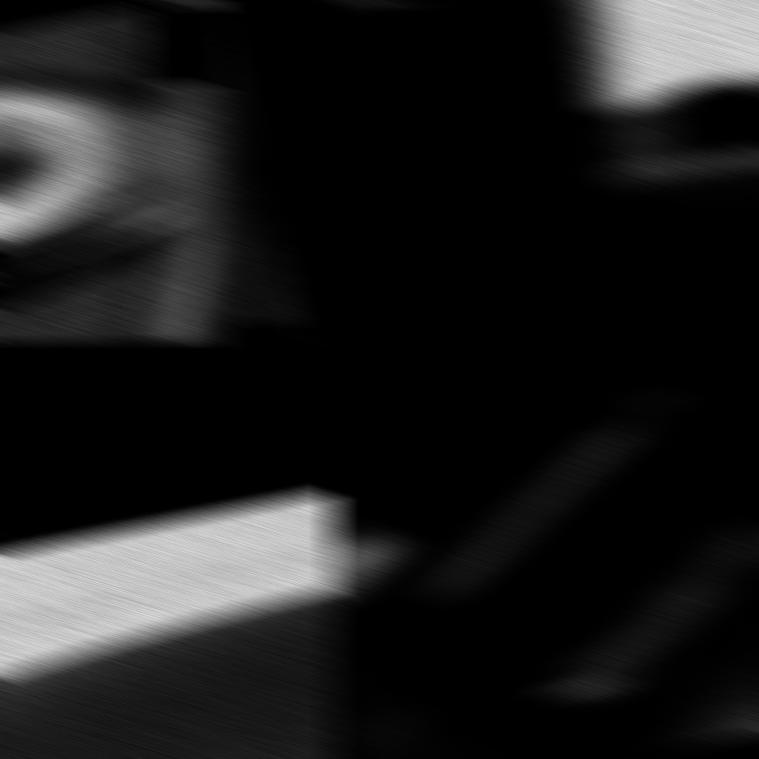Airbag: (327, 339, 759, 759), (327, 0, 759, 342), (0, 0, 339, 342), (0, 427, 339, 759)
